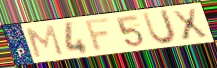4: (63, 20, 90, 56)
5: (114, 13, 147, 48)
F: (83, 16, 114, 54)
M: (24, 24, 65, 59)
U: (140, 8, 179, 46)
X: (169, 7, 210, 42)
